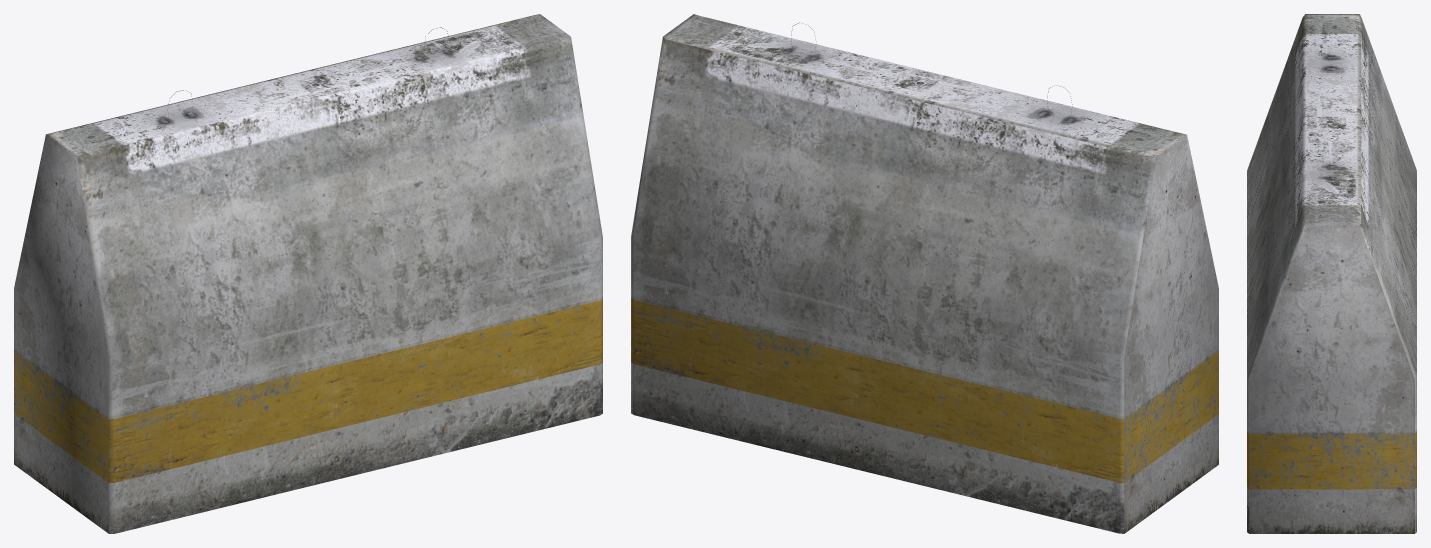
The model's file is Roadblock_Concrete.FBX.
3 views of the same model, side by side, from view 1: azimuth 30°, elevation 25°; view 2: azimuth 150°, elevation 25°; view 3: azimuth 270°, elevation 25° (orthographic). The views are drawn at different scales.
Visible parts, largest first — view 1: Roadblock_Concrete; view 2: Roadblock_Concrete; view 3: Roadblock_Concrete.
Boxes of the visible parts, left/top/right/bottom form: Roadblock_Concrete: left=14, top=14, right=602, bottom=533; Roadblock_Concrete: left=631, top=14, right=1218, bottom=533; Roadblock_Concrete: left=1247, top=14, right=1416, bottom=533.
Size of the model in its own units: 97.18 by 73.09 by 33.09.
